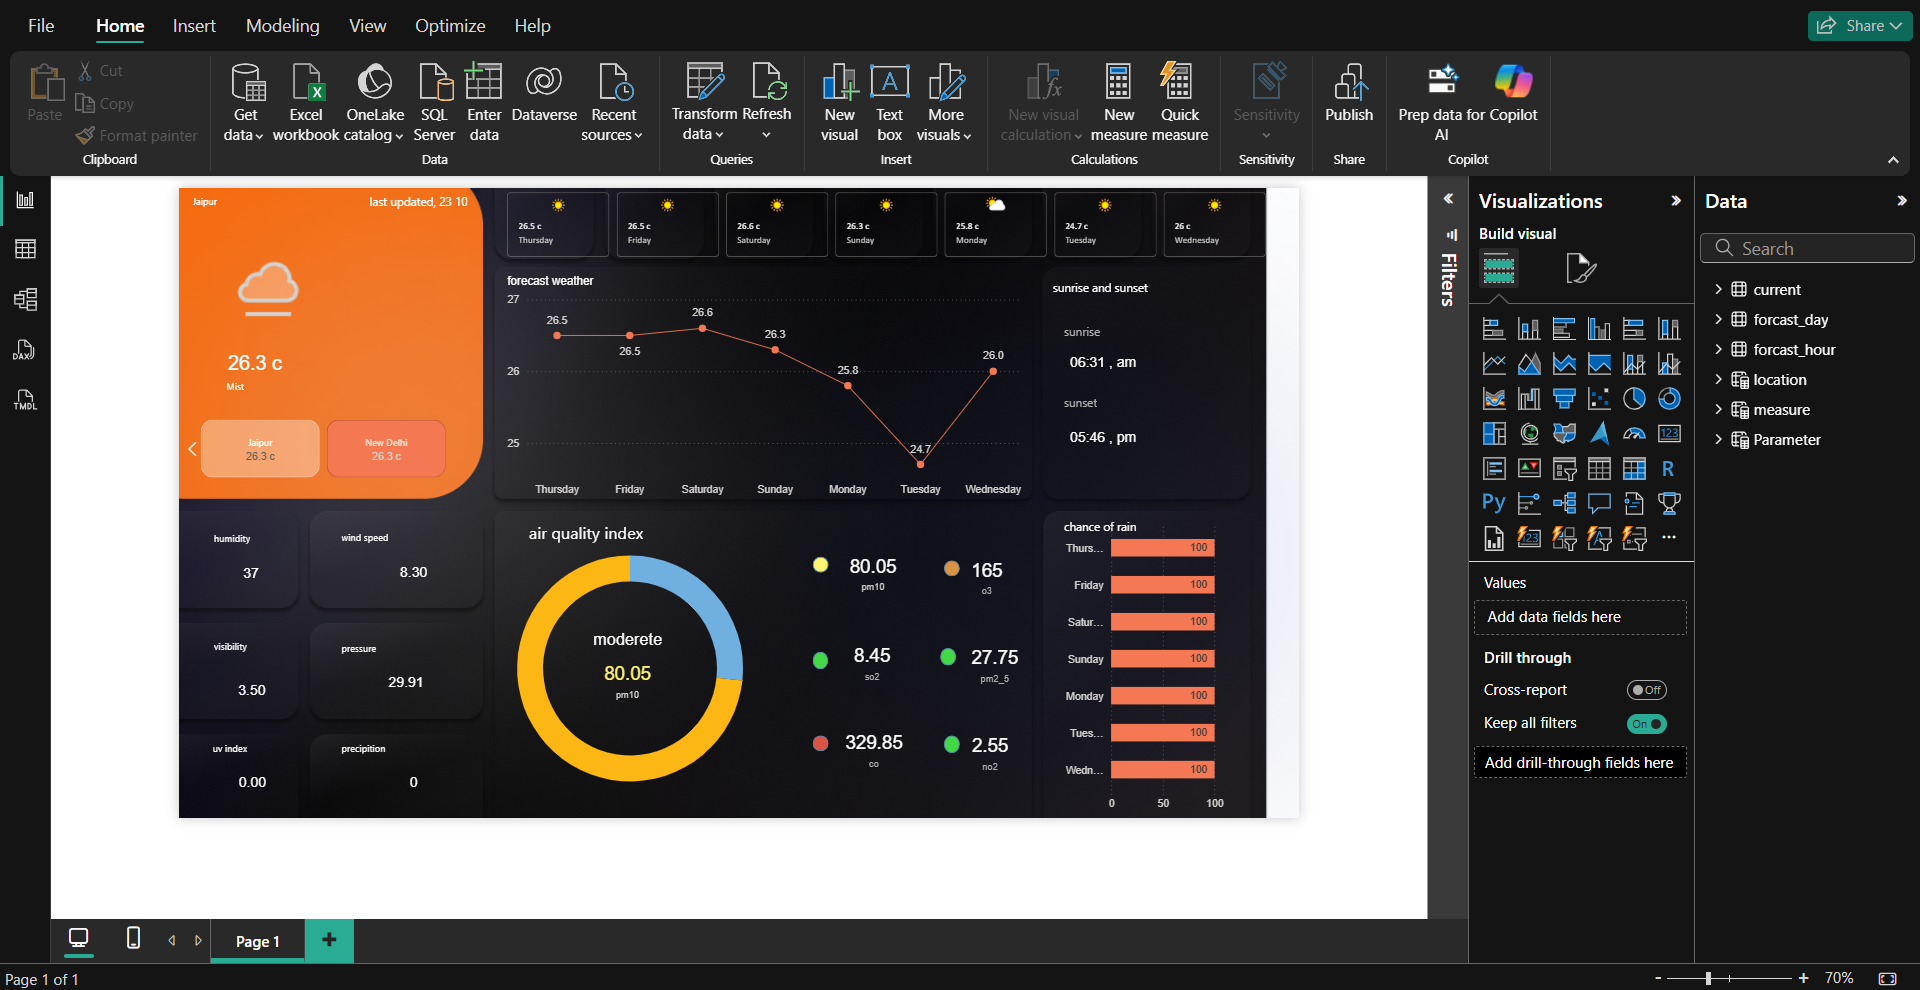

Layout of this report page (visuals, bound fields, positions):
{"tool":"powerbi","page":{"name":"Page 1","canvas":[1280,720],"ordinal":0},"visuals":[{"type":"advancedSlicerVisual","fields":{"Values":["location.location.name"],"Label":["measure.curr_temp_c"]},"box":[0,260,330,76],"z":0},{"type":"card","fields":{"Values":["measure.curr_temp_c"]},"box":[0,182,174,38],"z":1000},{"type":"shape","box":[186,0,144,30],"z":2000},{"type":"shape","box":[16,0,146,30],"z":3000},{"type":"shape","box":[40,510,104,26],"z":4000},{"type":"shape","box":[40,386,104,28],"z":5000},{"type":"shape","box":[38,626,104,28],"z":6000},{"type":"shape","box":[186,386,104,26],"z":7000},{"type":"shape","box":[186,512,104,28],"z":8000},{"type":"shape","box":[186,626,104,28],"z":9000},{"type":"card","fields":{"Values":["Sum(current.current.humidity)"]},"box":[38,416,88,52],"z":10000},{"type":"card","fields":{"Values":["Sum(current.current.vis_km)"]},"box":[38,550,90,52],"z":11000},{"type":"card","fields":{"Values":["Sum(current.current.uv)"]},"box":[40,654,88,52],"z":12000},{"type":"card","fields":{"Values":["Sum(current.current.precip_in)"]},"box":[224,654,88,52],"z":13000},{"type":"advancedSlicerVisual","fields":{"Values":["forcast_day.day_name"]},"box":[370,0,880,84],"z":14000},{"type":"lineChart","title":"forecast weather","fields":{"Y":["Sum(forcast_day.forecast.forecastday.day.avgtemp_c)"],"Category":["forcast_day.day_name"]},"box":[370,98,604,262],"z":15000},{"type":"shape","box":[54,212,148,30],"z":16000},{"type":"cardVisual","fields":{"Data":["Min(current.current.condition.icon)"]},"box":[0,30,168.6,160],"z":17000},{"type":"shape","box":[998,98,146,30],"z":18000},{"type":"card","fields":{"Values":["Min(forcast_day.sunrise_day)"]},"box":[1012,186,90,26],"z":19000},{"type":"card","fields":{"Values":["Min(forcast_day.sunset_day)"]},"box":[1012,272,90,26],"z":20000},{"type":"shape","box":[1012,148,146,30],"z":21000},{"type":"shape","box":[1012,230,148,30],"z":22000},{"type":"shape","box":[1012,372,146,30],"z":24000},{"type":"shape","box":[400,368,232,48],"z":25000},{"type":"card","fields":{"Values":["Sum(current.current.pressure_in)"]},"box":[216,540,88,52],"z":26000},{"type":"card","fields":{"Values":["Sum(current.current.wind_kph)"]},"box":[224,414,88,52],"z":27000},{"type":"card","fields":{"Values":["Sum(current.current.air_quality.co)"]},"box":[745,605,97.5,70],"z":28000},{"type":"card","fields":{"Values":["Sum(current.current.air_quality.no2)"]},"box":[887.5,613.8,80,60],"z":29000},{"type":"card","fields":{"Values":["Sum(current.current.air_quality.o3)"]},"box":[892,416,64,56],"z":30000},{"type":"card","fields":{"Values":["Sum(current.current.air_quality.pm10)"]},"box":[752,402,84,76],"z":31000},{"type":"card","fields":{"Values":["Sum(current.current.air_quality.pm2_5)"]},"box":[888,510,88,68],"z":32000},{"type":"card","fields":{"Values":["Sum(current.current.air_quality.so2)"]},"box":[742,506,102,72],"z":33000},{"type":"shape","box":[870,526,18,20],"z":34000},{"type":"shape","box":[874,426,18,18],"z":35000},{"type":"shape","box":[874,626,18,20],"z":36000},{"type":"shape","box":[723.8,530,17.5,20],"z":37000},{"type":"shape","box":[724,626,18,18],"z":38000},{"type":"shape","box":[724,422,18,18],"z":39000},{"type":"card","fields":{"Values":["Sum(current.current.air_quality.pm10)"]},"box":[430,505.7,165.7,91.4],"z":40000},{"type":"donutChart","fields":{"Y":["Sum(current.current.air_quality.pm10)","measure.left_value_pm10"]},"box":[314.3,382.9,402.9,332.9],"z":41000},{"type":"barChart","fields":{"Y":["measure.left_value_rain"],"Category":["forcast_day.day_name"]},"box":[995.7,371.4,227.1,348.6],"z":41001}]}

Visuals, with their boxes on the page's 1280x720 design canvas (x1, y1, x2, y2). These are canvas units, not pixel positions in the 1920x990 screenshot, which may show the page scaled, cropped or inside an application window:
advancedSlicerVisual - location.location.name x measure.curr_temp_c: region(0, 260, 330, 336)
card - measure.curr_temp_c: region(0, 182, 174, 220)
shape: region(186, 0, 330, 30)
shape: region(16, 0, 162, 30)
shape: region(40, 510, 144, 536)
shape: region(40, 386, 144, 414)
shape: region(38, 626, 142, 654)
shape: region(186, 386, 290, 412)
shape: region(186, 512, 290, 540)
shape: region(186, 626, 290, 654)
card - Sum(current.current.humidity): region(38, 416, 126, 468)
card - Sum(current.current.vis_km): region(38, 550, 128, 602)
card - Sum(current.current.uv): region(40, 654, 128, 706)
card - Sum(current.current.precip_in): region(224, 654, 312, 706)
advancedSlicerVisual - forcast_day.day_name: region(370, 0, 1250, 84)
"forecast weather" lineChart: region(370, 98, 974, 360)
shape: region(54, 212, 202, 242)
cardVisual - Min(current.current.condition.icon): region(0, 30, 169, 190)
shape: region(998, 98, 1144, 128)
card - Min(forcast_day.sunrise_day): region(1012, 186, 1102, 212)
card - Min(forcast_day.sunset_day): region(1012, 272, 1102, 298)
shape: region(1012, 148, 1158, 178)
shape: region(1012, 230, 1160, 260)
shape: region(1012, 372, 1158, 402)
shape: region(400, 368, 632, 416)
card - Sum(current.current.pressure_in): region(216, 540, 304, 592)
card - Sum(current.current.wind_kph): region(224, 414, 312, 466)
card - Sum(current.current.air_quality.co): region(745, 605, 842, 675)
card - Sum(current.current.air_quality.no2): region(888, 614, 968, 674)
card - Sum(current.current.air_quality.o3): region(892, 416, 956, 472)
card - Sum(current.current.air_quality.pm10): region(752, 402, 836, 478)
card - Sum(current.current.air_quality.pm2_5): region(888, 510, 976, 578)
card - Sum(current.current.air_quality.so2): region(742, 506, 844, 578)
shape: region(870, 526, 888, 546)
shape: region(874, 426, 892, 444)
shape: region(874, 626, 892, 646)
shape: region(724, 530, 741, 550)
shape: region(724, 626, 742, 644)
shape: region(724, 422, 742, 440)
card - Sum(current.current.air_quality.pm10): region(430, 506, 596, 597)
donutChart - Sum(current.current.air_quality.pm10) x measure.left_value_pm10: region(314, 383, 717, 716)
barChart - measure.left_value_rain x forcast_day.day_name: region(996, 371, 1223, 720)
